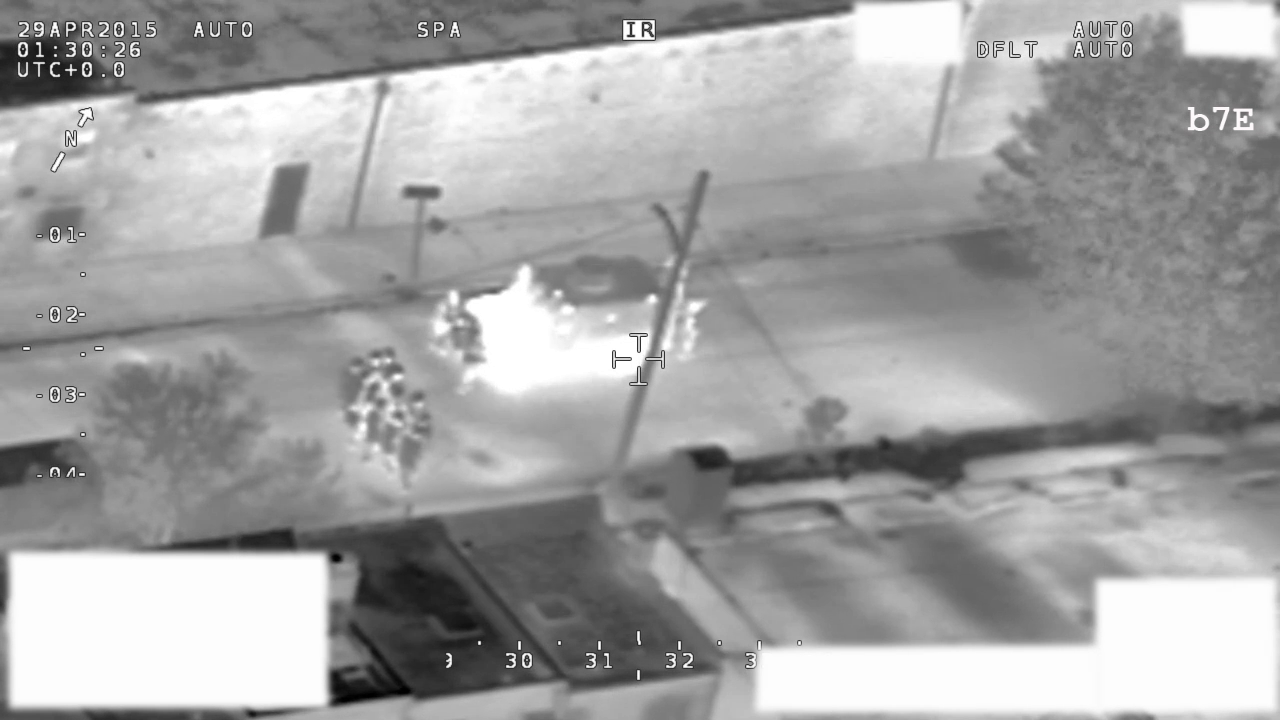vehicle: (460, 248, 705, 397), (1, 425, 108, 549)
